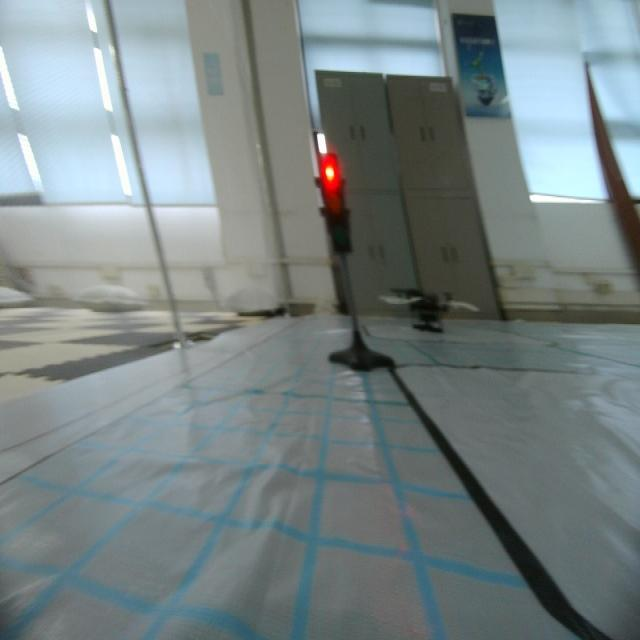red: (309, 149, 357, 262)
